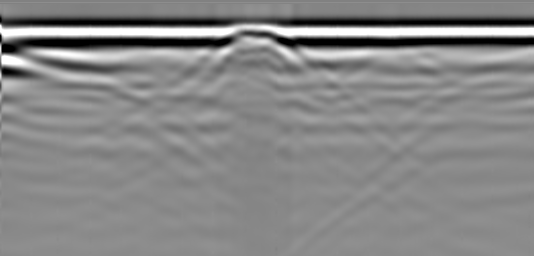steel: (216, 28, 296, 48)
